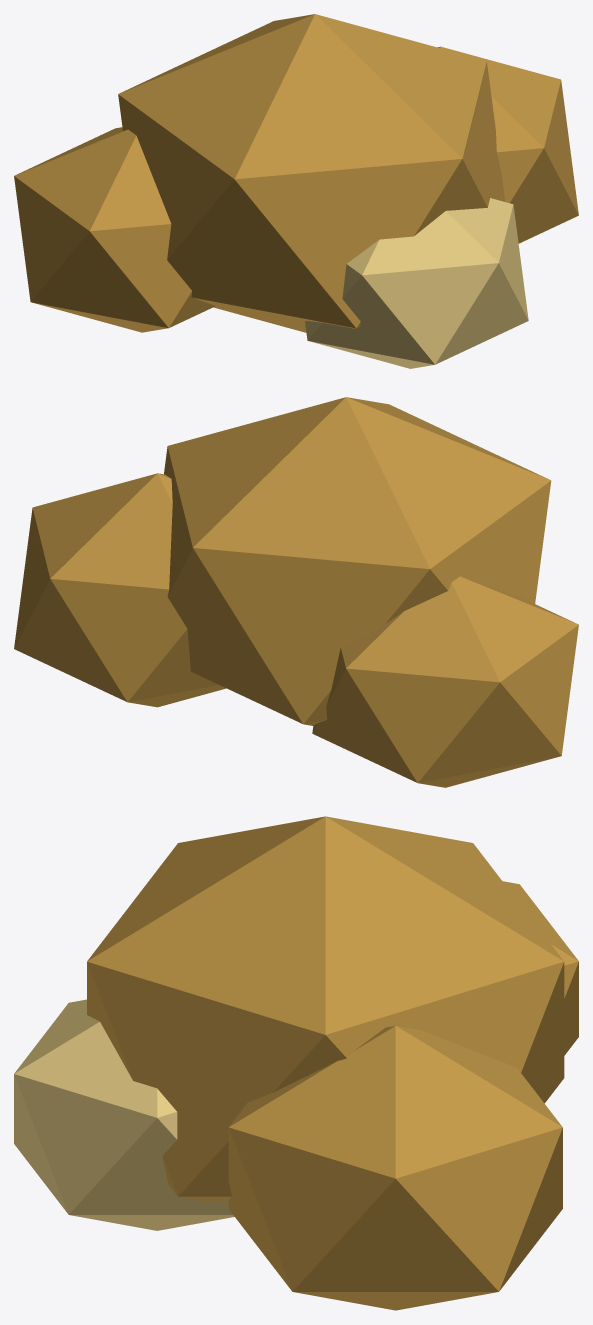
File: gold_bush.glb
3 renders of one model, top to bottom at view 1: azimuth 30°, elevation 25°; view 2: azimuth 150°, elevation 25°; view 3: azimuth 270°, elevation 25°, orthographic. The views are drawn at different scales.
Visible parts, largest first — view 1: golden shrub, golden shrub.002, golden shrub.003, golden shrub.001; view 2: golden shrub, golden shrub.002, golden shrub.001; view 3: golden shrub, golden shrub.001, golden shrub.003, golden shrub.002.
Part boxes in pixels (box(x1,y1,x2,y2)): golden shrub: box(118, 14, 505, 332); golden shrub.002: box(14, 127, 215, 332); golden shrub.003: box(305, 198, 528, 368); golden shrub.001: box(438, 46, 578, 243); golden shrub: box(164, 397, 551, 725); golden shrub.002: box(312, 576, 578, 787); golden shrub.001: box(14, 473, 226, 707); golden shrub: box(87, 816, 564, 1201); golden shrub.001: box(228, 1025, 562, 1310); golden shrub.003: box(14, 999, 234, 1230); golden shrub.002: box(502, 881, 578, 1055).
Size of the model in its own units: 0.5415 by 0.32 by 0.4027.
